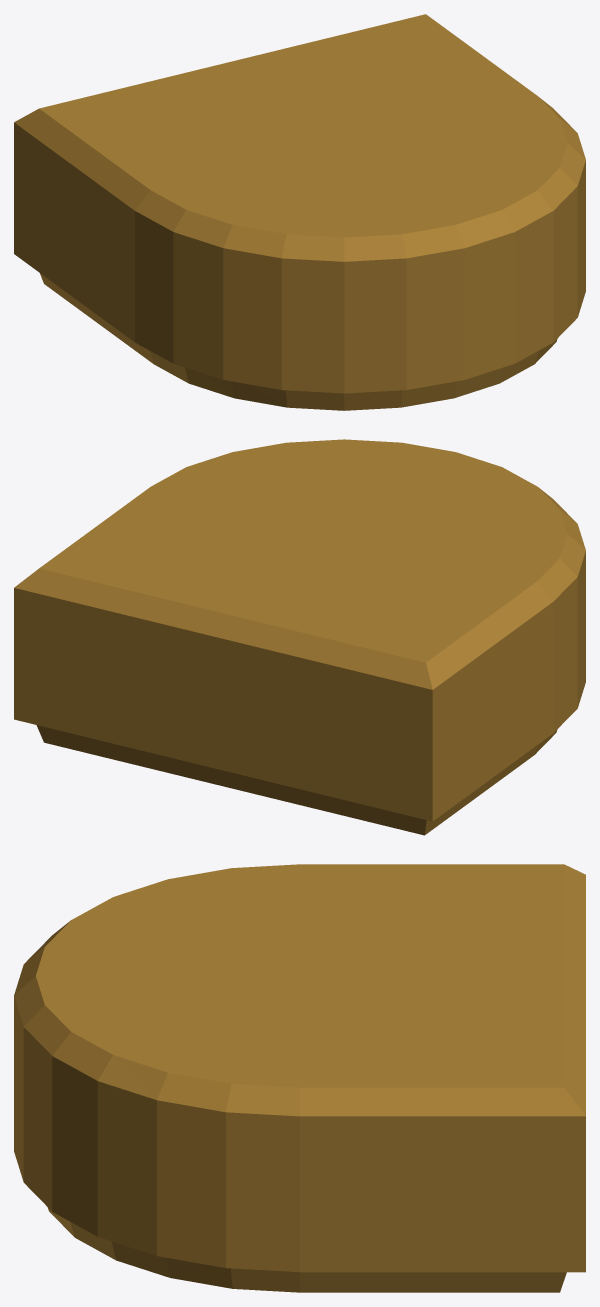
Rendered from 1x1 Curve Plate.dae.
The picture shows the model from 3 angles, top to bottom: view 1: azimuth 30°, elevation 25°; view 2: azimuth 150°, elevation 25°; view 3: azimuth 270°, elevation 25°; orthographic projection. The views are drawn at different scales.
Visible parts, largest first — view 1: Part.0; view 2: Part.0; view 3: Part.0.
Part boxes in pixels (x1,y1,x2,y2): Part.0: [14, 14, 585, 410]; Part.0: [14, 439, 585, 835]; Part.0: [14, 864, 585, 1292].
Size of the model in its own units: 7.92 by 3.16 by 7.92.
